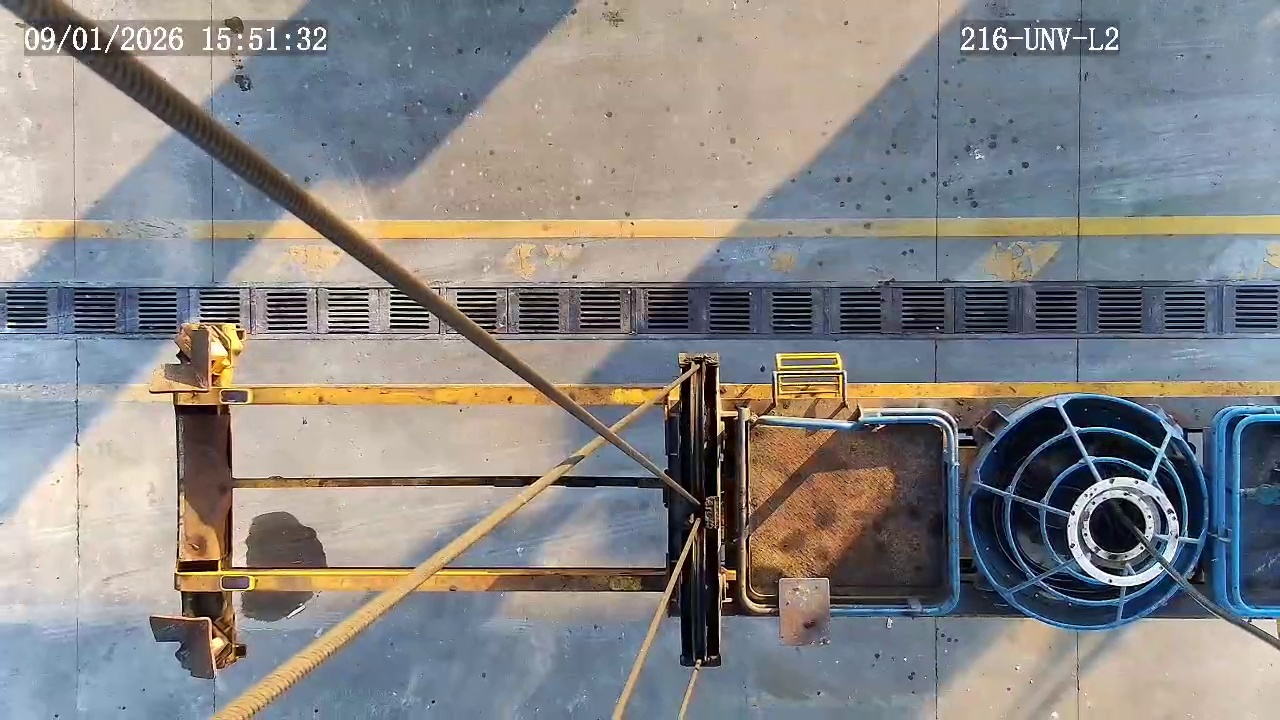left: (969, 395, 1210, 627)
